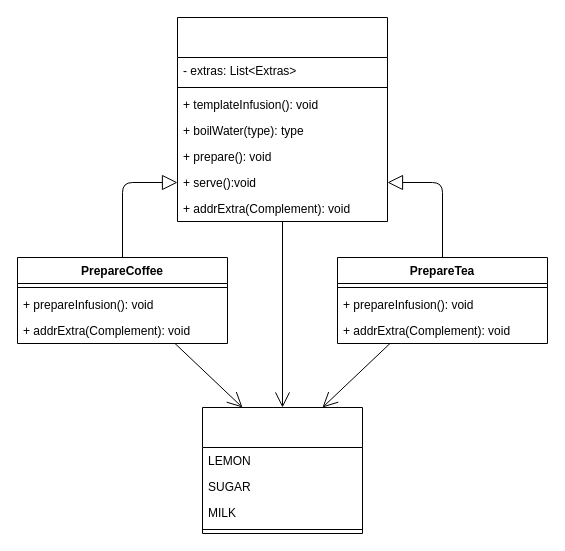
This 565x551 diagram has some shape labels left out. The box of each missing label's shape, as (x1, y1, x2, y2) in pixels:
<<abs>> PrepareInfusion: (176, 16, 388, 222)
<<enum>> ComplementType: (202, 406, 362, 534)
